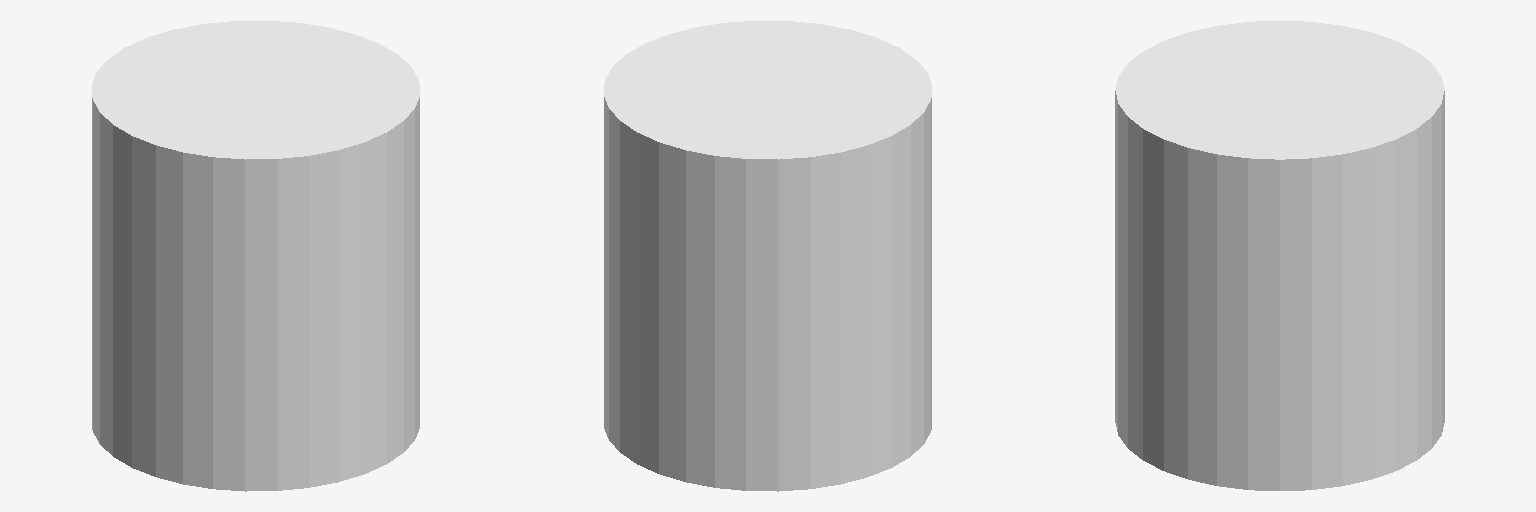
URDF robot description (tool9x9):
<?xml version="1.0" ?>
<robot name="tool9x9">
  <link name="tool9x9">
    <visual>
      <geometry>
        <mesh filename="ZylinderTool9x9.stl" scale="1 1 1" />
      </geometry>
      <material name="white">
        <color rgba="1 1 1 1"/>
      </material>
    </visual>
    <collision>
      <geometry>
        <mesh filename="ZylinderTool9x9.stl" scale="1 1 1" />
      </geometry>
    </collision>
    <inertial>
      <mass value="0.001" />
      <inertia ixx="1" ixy="0" ixz="0" iyy="1" iyz="0" izz="1" />
    </inertial>
  </link>
</robot>

--- Render facts (derived) ---
3 views of the same robot in one strip: view 1: azimuth 30°, elevation 25°; view 2: azimuth 150°, elevation 25°; view 3: azimuth 270°, elevation 25° (orthographic).
Model tool9x9 with 1 links and 0 joints (none), rooted at tool9x9, posed all joints at 0.
Visible links, largest first — view 1: tool9x9; view 2: tool9x9; view 3: tool9x9.
Boxes of the visible links, x1,y1,x2,y2 form: tool9x9: (92,20,419,491); tool9x9: (604,20,931,491); tool9x9: (1115,21,1444,490).
Size in the robot's own frame: 0.09 by 0.09 by 0.1 metres.
1 mesh visuals loaded from 1 distinct referenced files (1 binary STL).